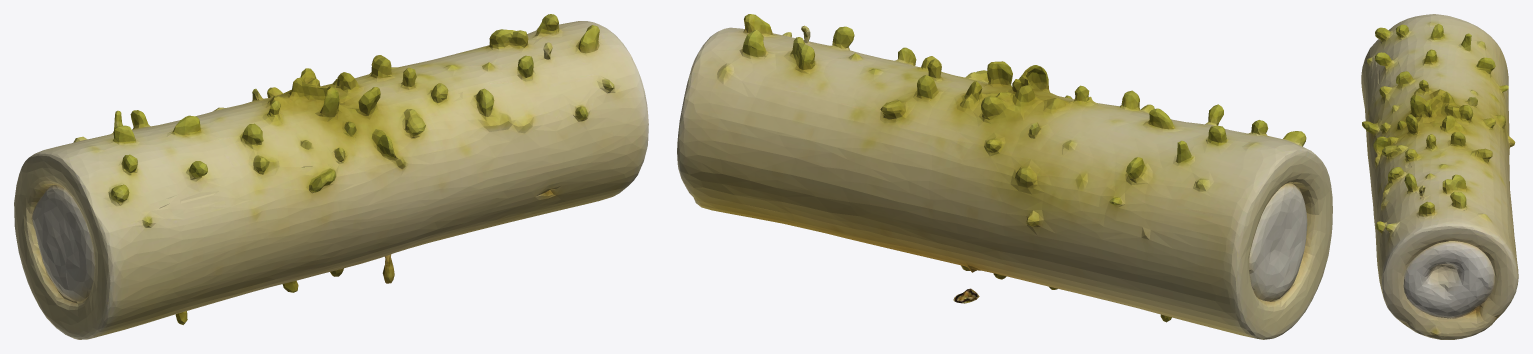
File: halawet.glb
3 views of the same model, side by side, from view 1: azimuth 30°, elevation 25°; view 2: azimuth 150°, elevation 25°; view 3: azimuth 270°, elevation 25° (orthographic). The views are drawn at different scales.
Parts seen in each view (by area): view 1: geometry_0; view 2: geometry_0; view 3: geometry_0.
Part boxes in pixels (bbox=[...]): geometry_0: bbox=[14, 14, 648, 339]; geometry_0: bbox=[677, 14, 1332, 339]; geometry_0: bbox=[1361, 14, 1518, 339].
Bounding box in the file's own units: 0.9977 × 0.3643 × 0.3231.
Materials: 1 (1 with a texture image).
